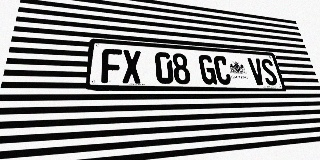0: (154, 52, 174, 84)
8: (171, 53, 191, 84)
C: (213, 55, 232, 85)
F: (101, 48, 122, 83)
G: (198, 54, 217, 85)
S: (260, 59, 279, 85)
V: (247, 58, 266, 85)
X: (122, 50, 142, 84)
